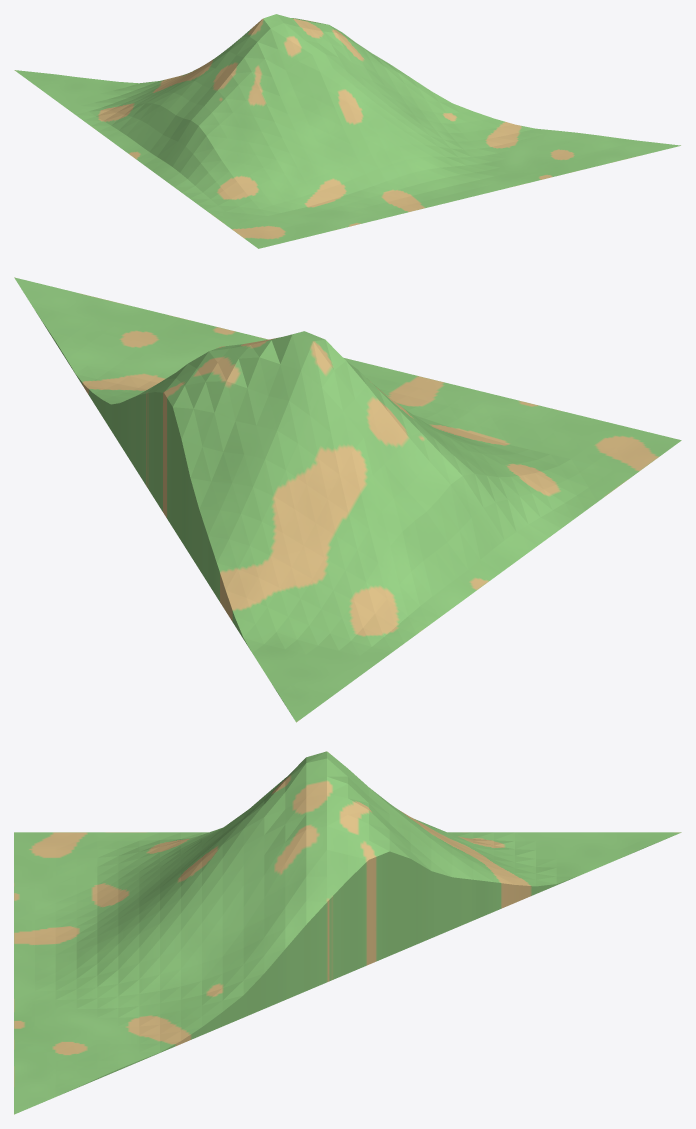
Rendered from Grass_Hills_02_NW.obj.
3 renders of one model, top to bottom at view 1: azimuth 30°, elevation 25°; view 2: azimuth 150°, elevation 25°; view 3: azimuth 270°, elevation 25°, orthographic. The views are drawn at different scales.
Bounding box in the file's own units: 10 × 2.68 × 10.
Materials: 1 (1 with a texture image).
